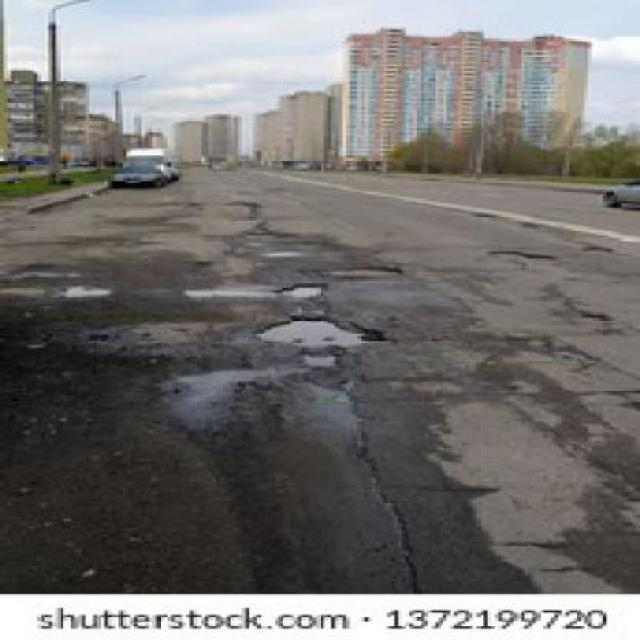Pothole: (254, 313, 388, 349)
